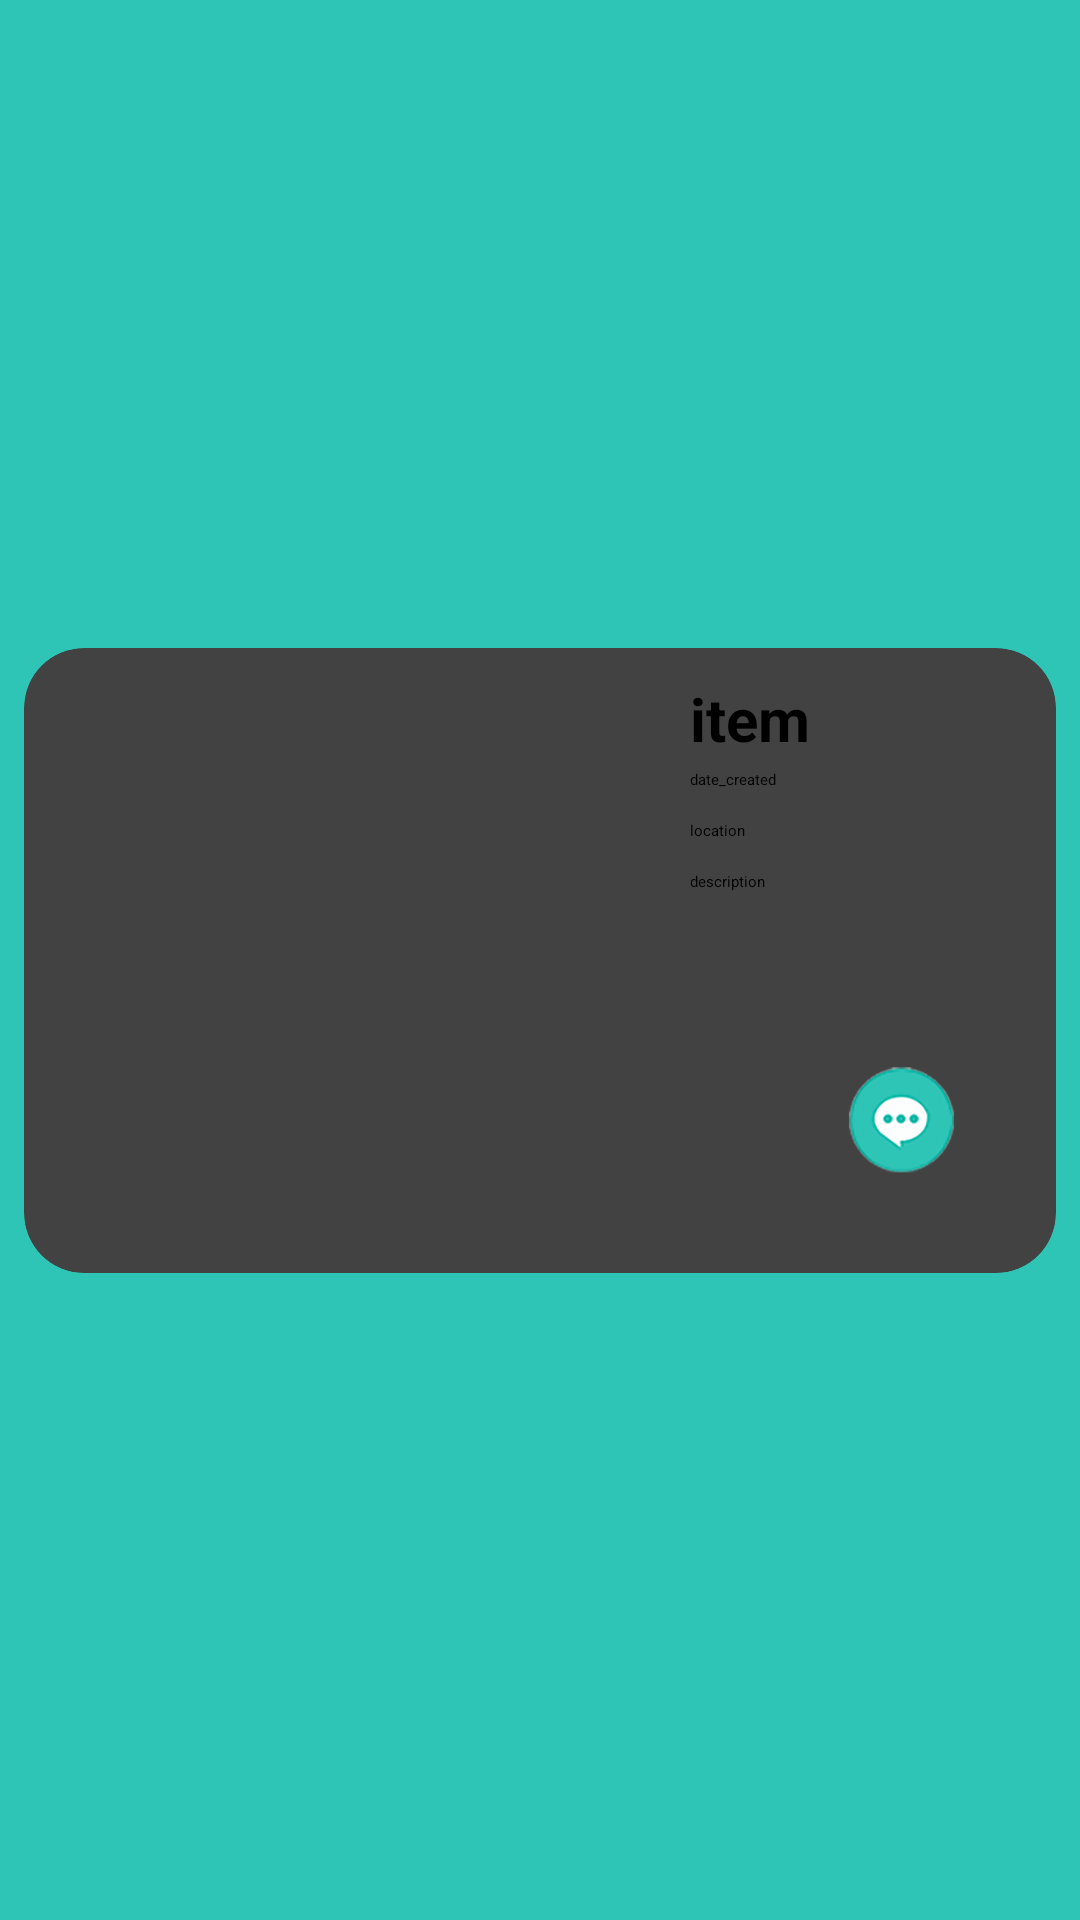

Point at icon controls on the screen. Image size 1080×1920, points as [x,y].
chat update: [901,1120]
